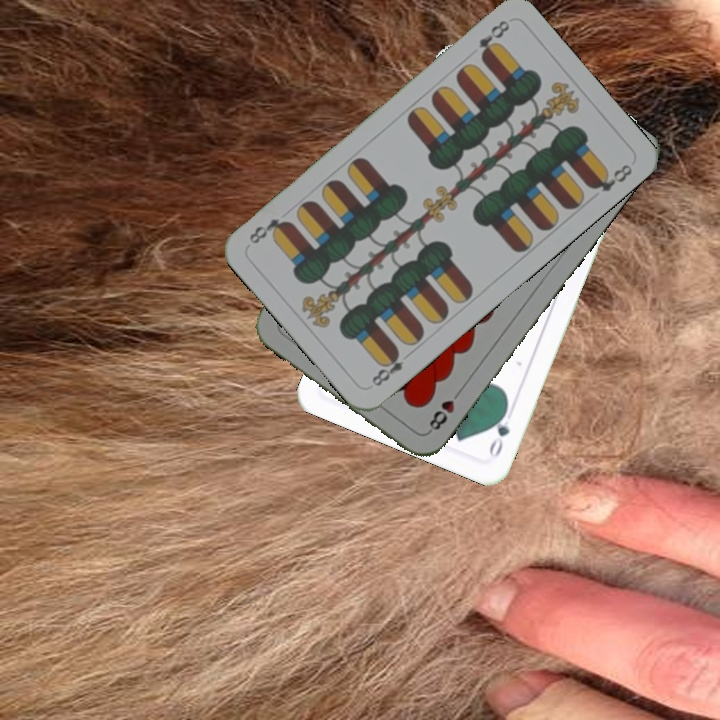E8: (367, 346, 415, 390), (475, 15, 512, 62)
GO: (484, 403, 513, 460)
H8: (424, 385, 465, 436)
